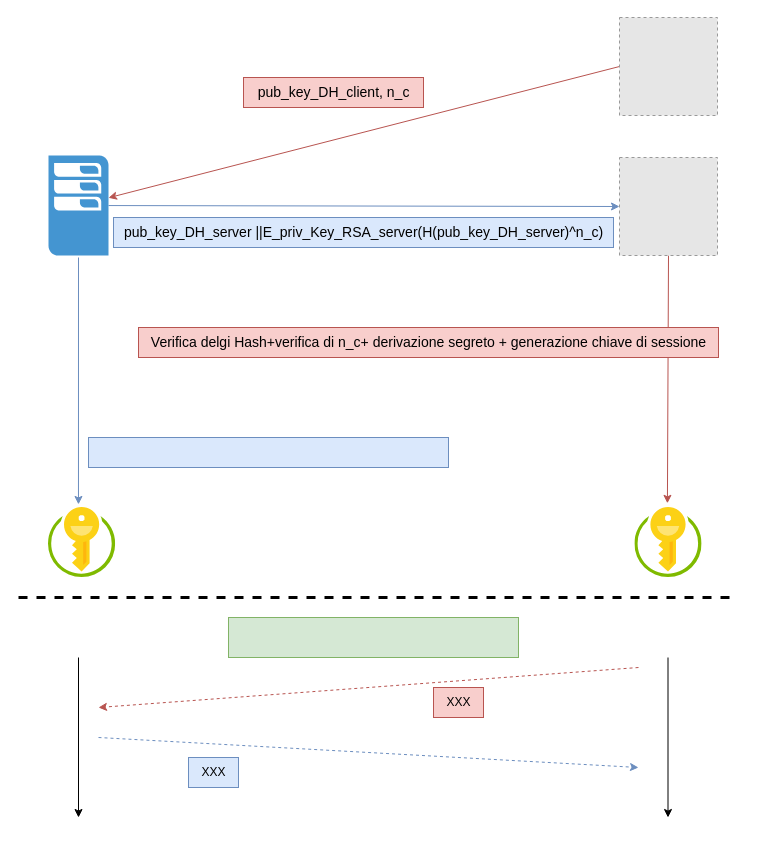
Some shapes in this 758 by 843 pixel diagram are drawn without their labels. Grey dashed boxes stand in for pictures. Each missing label, with the centre of its shape:
Da qui la comunicazione è cifrata: (373,637)
Derivazione segreto + generazione chiave di sessione: (268,452)
